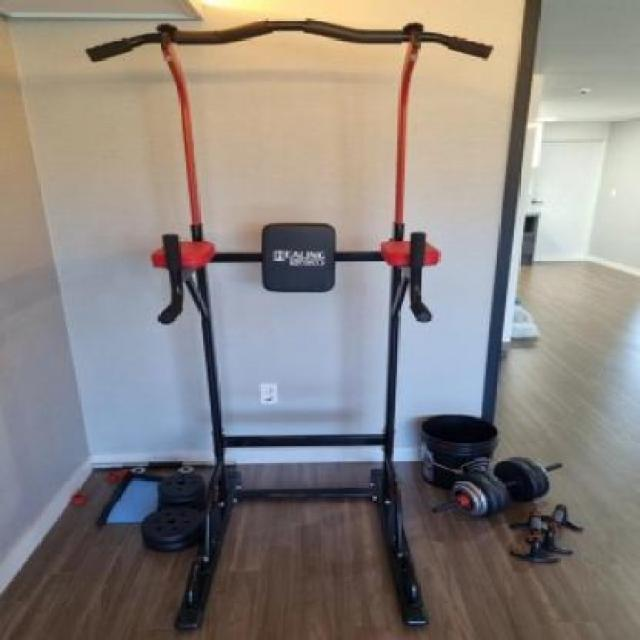chinning dipping: (90, 15, 496, 632)
